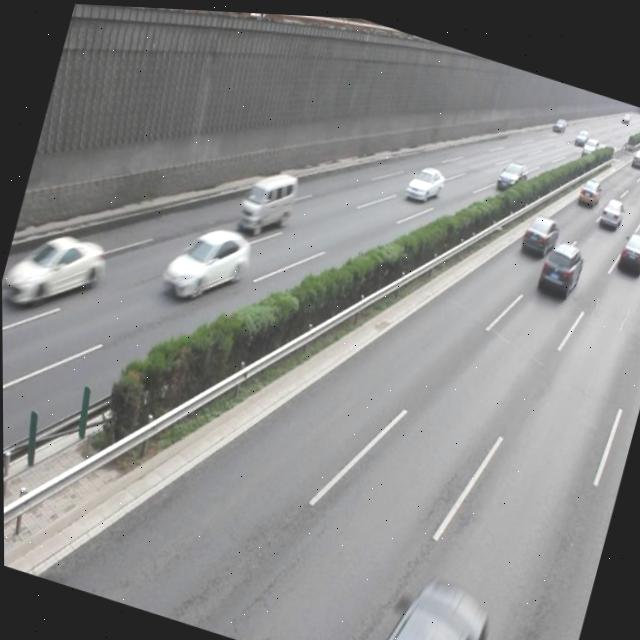car: (1, 214, 111, 326), (359, 556, 493, 640), (159, 211, 254, 310), (532, 228, 586, 299), (516, 202, 561, 258), (403, 156, 445, 203), (613, 222, 640, 269)
truck: (235, 158, 301, 239)
